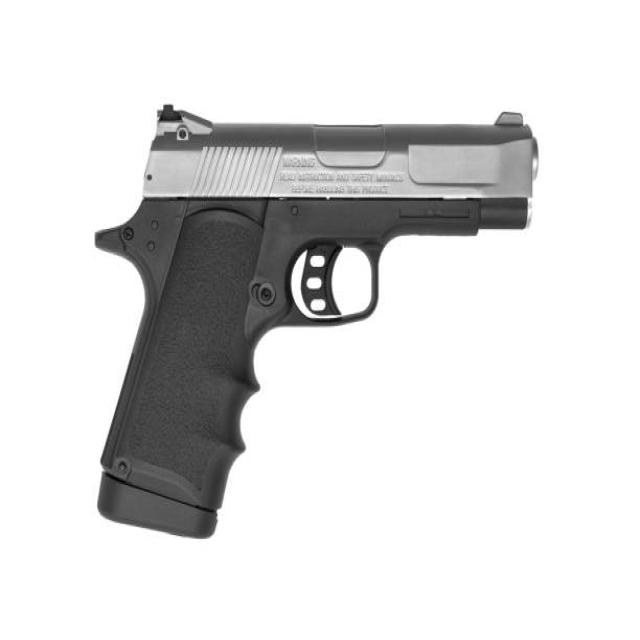pistol: (90, 101, 546, 544)
